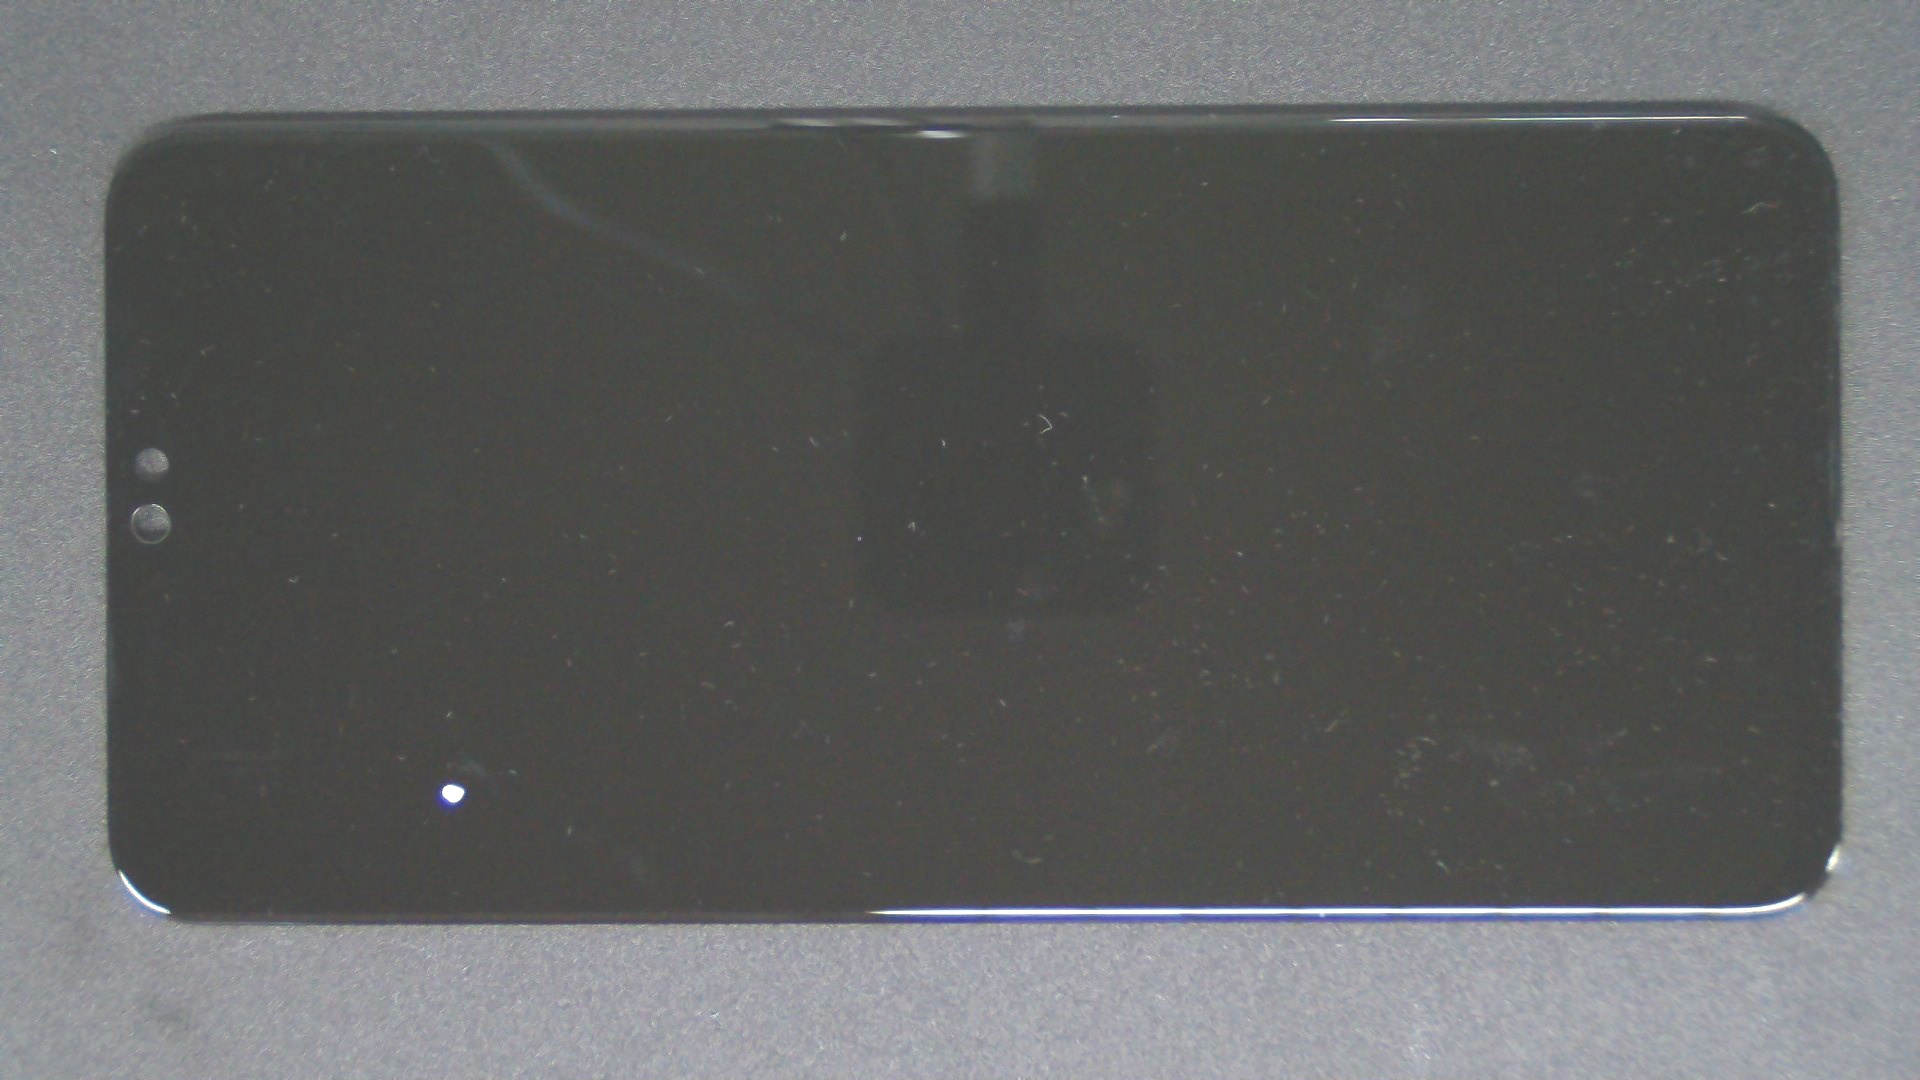oil: (223, 390, 669, 1080)
